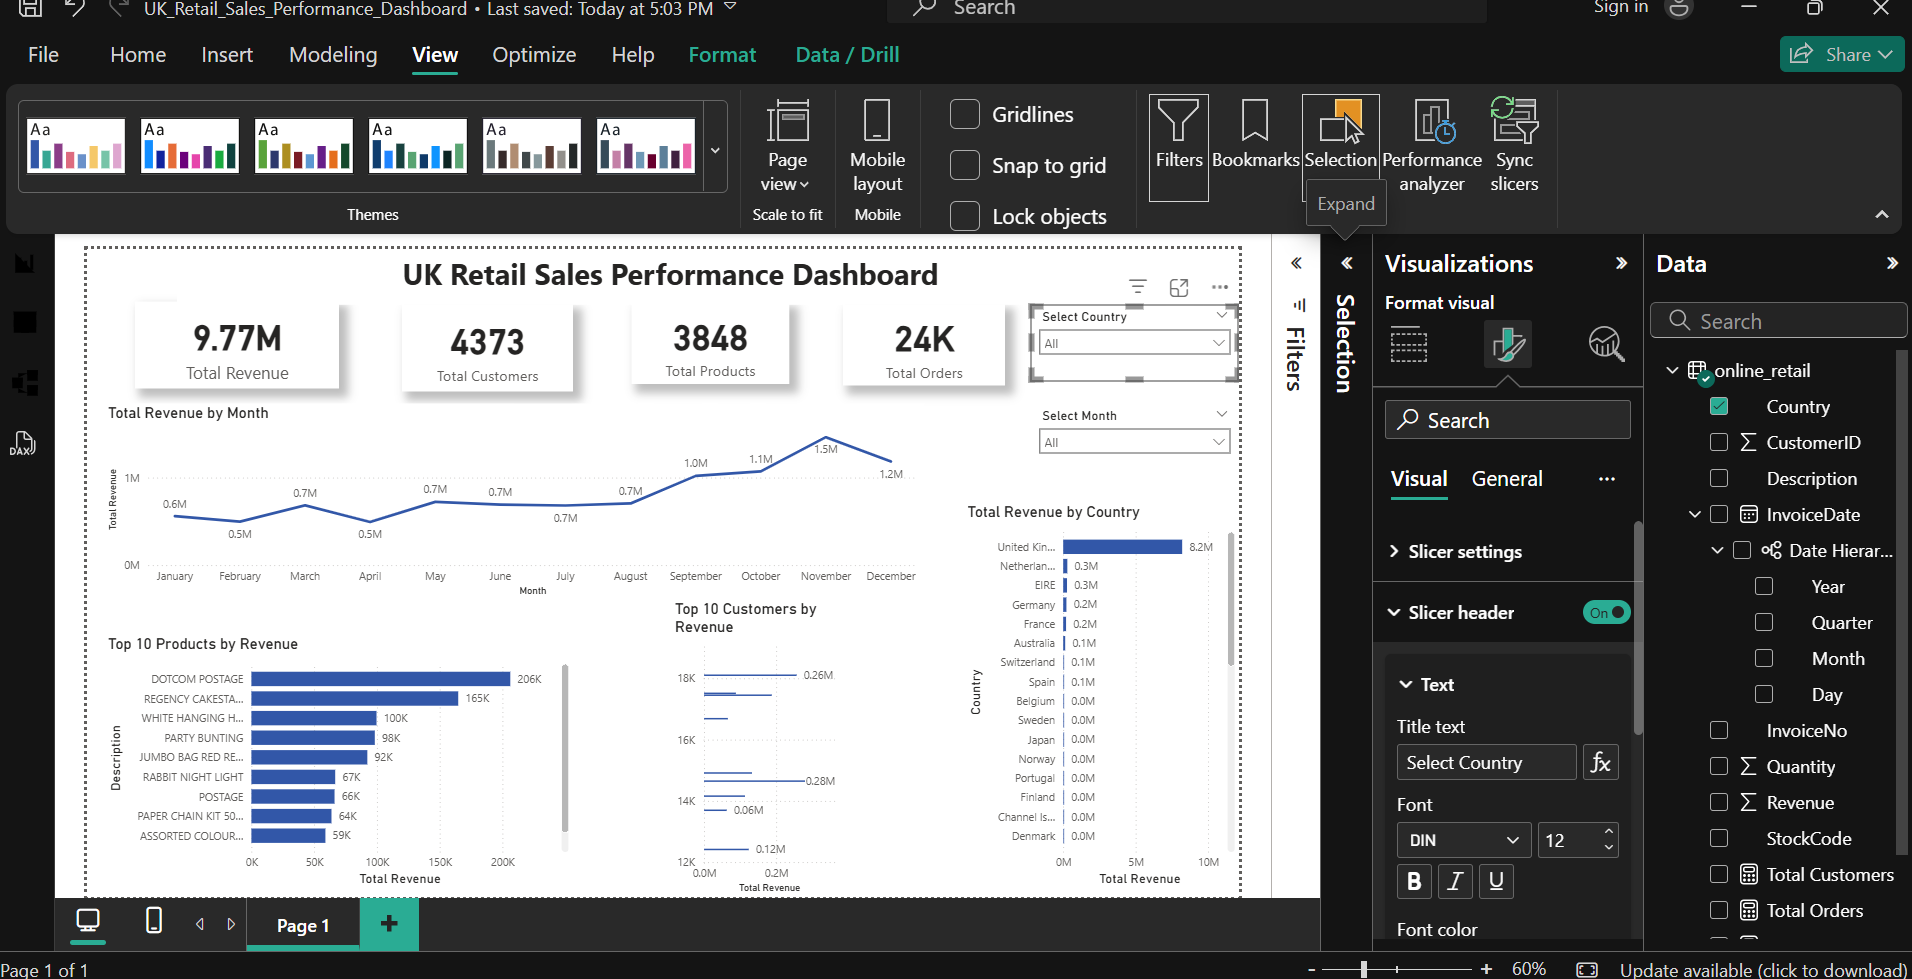

Layout of this report page (visuals, bound fields, positions):
{"tool":"powerbi","page":{"name":"Page 1","canvas":[1280,720],"ordinal":0},"visuals":[{"type":"card","fields":{"Values":["online_retail.Total Revenue"]},"box":[20.4,61.1,279.6,179.6],"z":0},{"type":"card","fields":{"Values":["online_retail.Total Products"]},"box":[548.1,100,279.6,116.7],"z":1000},{"type":"card","fields":{"Values":["online_retail.Total Orders"]},"box":[764.8,100,279.6,114.8],"z":2000},{"type":"card","fields":{"Values":["online_retail.Total Customers"]},"box":[300,61.1,279.6,161.1],"z":3000},{"type":"lineChart","fields":{"Category":["online_retail.InvoiceDate.Variation.Date Hierarchy.Month"],"Y":["online_retail.Total Revenue"]},"box":[224.1,222.2,464.8,437],"z":4000},{"type":"clusteredBarChart","title":"Top 10 Products by Revenuw","fields":{"Category":["online_retail.Description"],"Y":["online_retail.Total Revenue"]},"box":[1000,448.1,240.7,272.2],"z":5000},{"type":"clusteredBarChart","title":"Top 10 Customers by Revenue","fields":{"Category":["online_retail.CustomerID"],"Y":["online_retail.Total Revenue"]},"box":[0,263,207.4,307.4],"z":6000},{"type":"clusteredBarChart","fields":{"Category":["online_retail.Country"],"Y":["online_retail.Total Revenue"]},"box":[718.5,240.7,281.5,272.2],"z":7000},{"type":"textbox","box":[100.2,0,1096.1,100.2],"z":7003},{"type":"slicer","fields":{"Values":["online_retail.Country"]},"box":[1072.2,85.2,207.4,150],"z":7004},{"type":"slicer","fields":{"Values":["online_retail.InvoiceDate"]},"box":[1000,259.3,279.6,118.5],"z":7005}]}

Visuals, with their boxes on the page's 1280x720 design canvas (x1, y1, x2, y2). These are canvas units, not pixel positions in the 1912x979 screenshot, which may show the page scaled, cropped or inside an application window:
card - online_retail.Total Revenue: detection(20, 61, 300, 241)
card - online_retail.Total Products: detection(548, 100, 828, 217)
card - online_retail.Total Orders: detection(765, 100, 1044, 215)
card - online_retail.Total Customers: detection(300, 61, 580, 222)
lineChart - online_retail.InvoiceDate.Variation.Date Hierarchy.Month x online_retail.Total Revenue: detection(224, 222, 689, 659)
"Top 10 Products by Revenuw" clusteredBarChart: detection(1000, 448, 1241, 720)
"Top 10 Customers by Revenue" clusteredBarChart: detection(0, 263, 207, 570)
clusteredBarChart - online_retail.Country x online_retail.Total Revenue: detection(718, 241, 1000, 513)
textbox: detection(100, 0, 1196, 100)
slicer - online_retail.Country: detection(1072, 85, 1280, 235)
slicer - online_retail.InvoiceDate: detection(1000, 259, 1280, 378)
